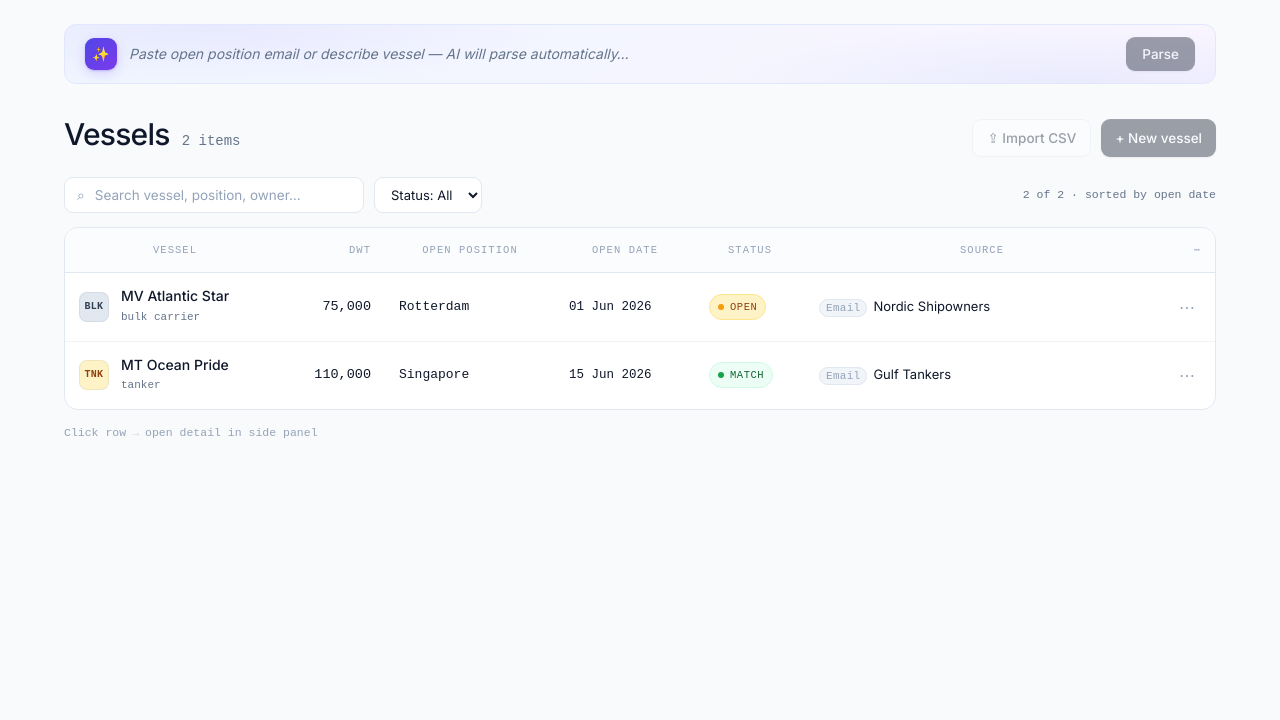
Test case: VesselsClient › opens side panel with role=dialog when a row is clicked
Click the row that starts with "BLK" at (640, 307), box [65,272,1215,341]
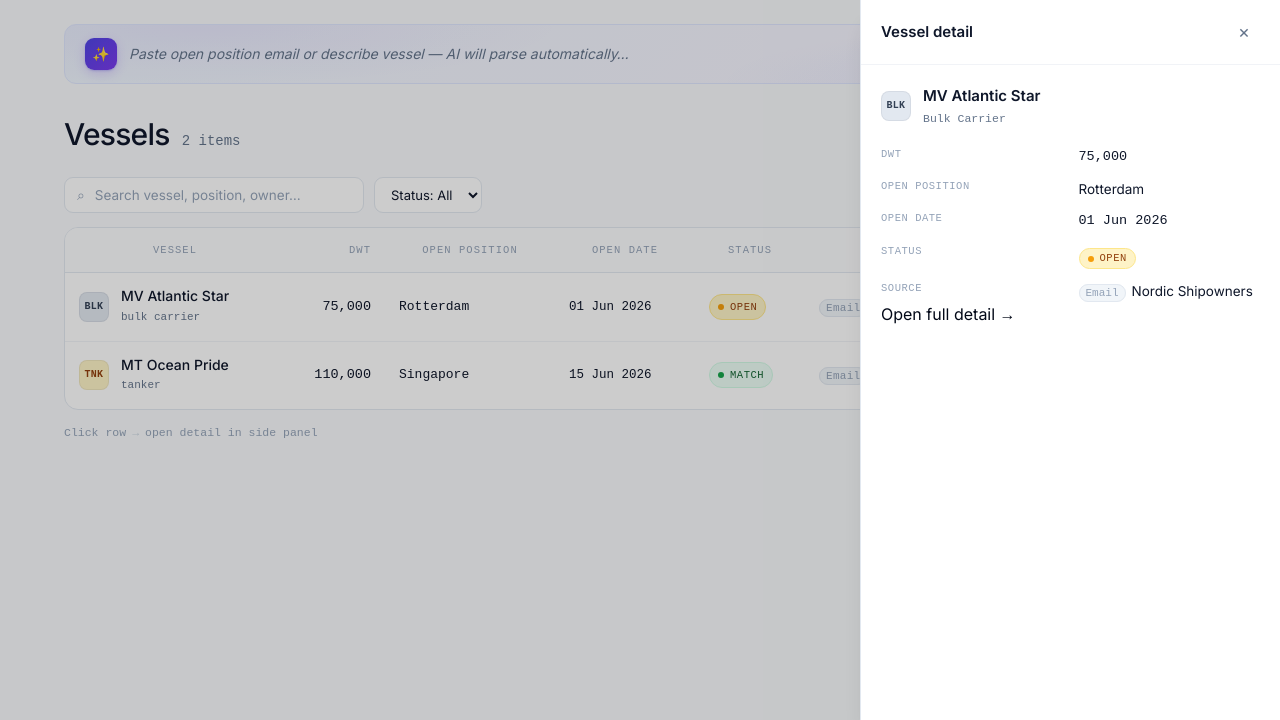
Expected: the dialog "Vessel detail" is shown, [860,0,1279,719]
Expected: the dialog "Vessel detail" shows "MV Atlantic Star", [923,86,1040,105]
